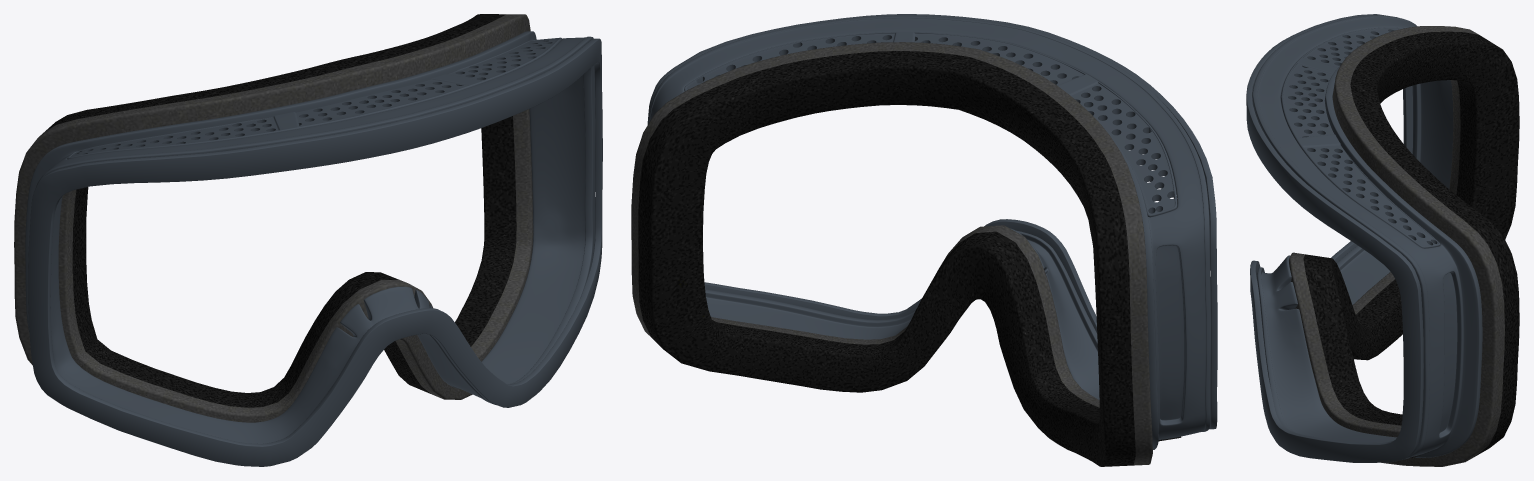
Rendered from FRAME_Oxia_MOOX017_001.glb.
3 renders of one model, left to right at view 1: azimuth 30°, elevation 25°; view 2: azimuth 150°, elevation 25°; view 3: azimuth 270°, elevation 25°, orthographic. The views are drawn at different scales.
Visible parts, largest first — view 1: Full_rim_geometry, Frame-Add_Frame-01_geometry_geometry; view 2: Frame-Add_Frame-01_geometry_geometry, Full_rim_geometry; view 3: Full_rim_geometry, Frame-Add_Frame-01_geometry_geometry.
Boxes of the visible parts, box(x1,y1,x2,y2) form: Full_rim_geometry: box(25, 31, 602, 466); Frame-Add_Frame-01_geometry_geometry: box(14, 14, 533, 422); Frame-Add_Frame-01_geometry_geometry: box(631, 42, 1181, 466); Full_rim_geometry: box(647, 14, 1217, 449); Full_rim_geometry: box(1246, 14, 1482, 462); Frame-Add_Frame-01_geometry_geometry: box(1289, 26, 1519, 466).
Bounding box in the file's own units: 0.1706 × 0.1003 × 0.0784.
1 material, 1 textured.
